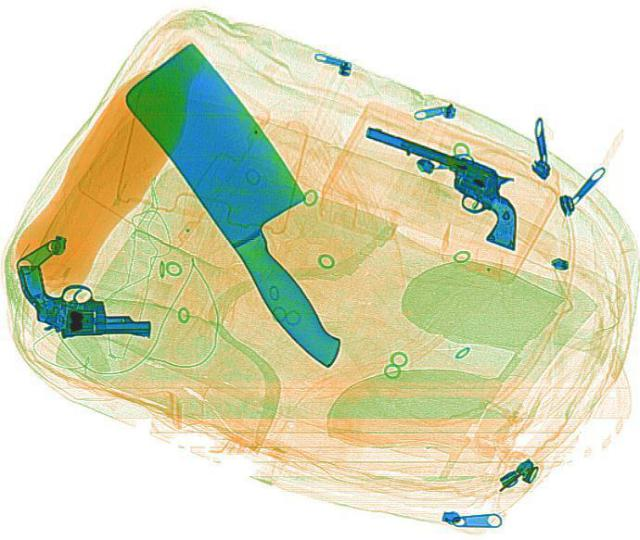Gun: (351, 99, 565, 258), (0, 235, 160, 365)
Knife: (94, 31, 416, 379)
